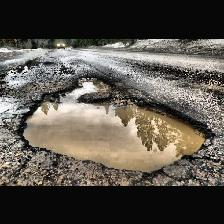pothole: (17, 74, 216, 174)
